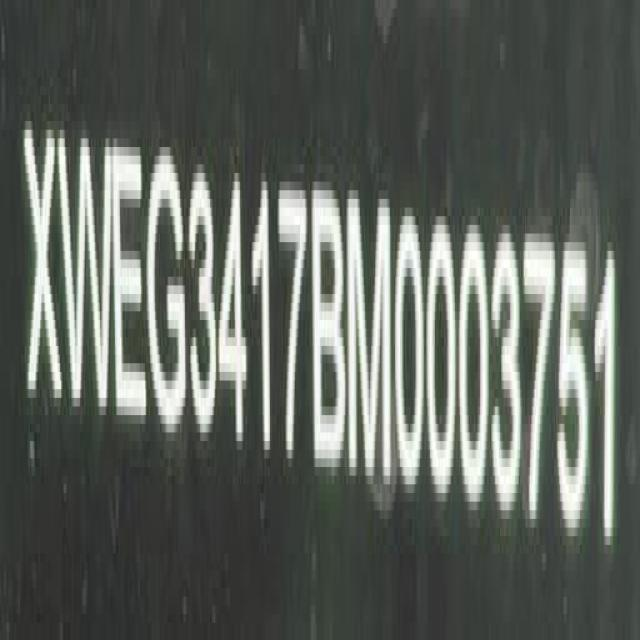0: (394, 196, 428, 502), (429, 205, 459, 509), (462, 216, 492, 514)
1: (598, 238, 623, 557), (252, 165, 274, 473)
3: (492, 222, 524, 525), (190, 158, 221, 456)
4: (217, 166, 250, 466)
5: (558, 230, 593, 545)
7: (523, 218, 557, 533), (278, 169, 310, 480)
B: (311, 176, 348, 488)
E: (113, 125, 150, 440)
G: (147, 142, 188, 446)
M: (352, 182, 396, 494)
W: (63, 115, 114, 431)
X: (23, 107, 63, 423)
